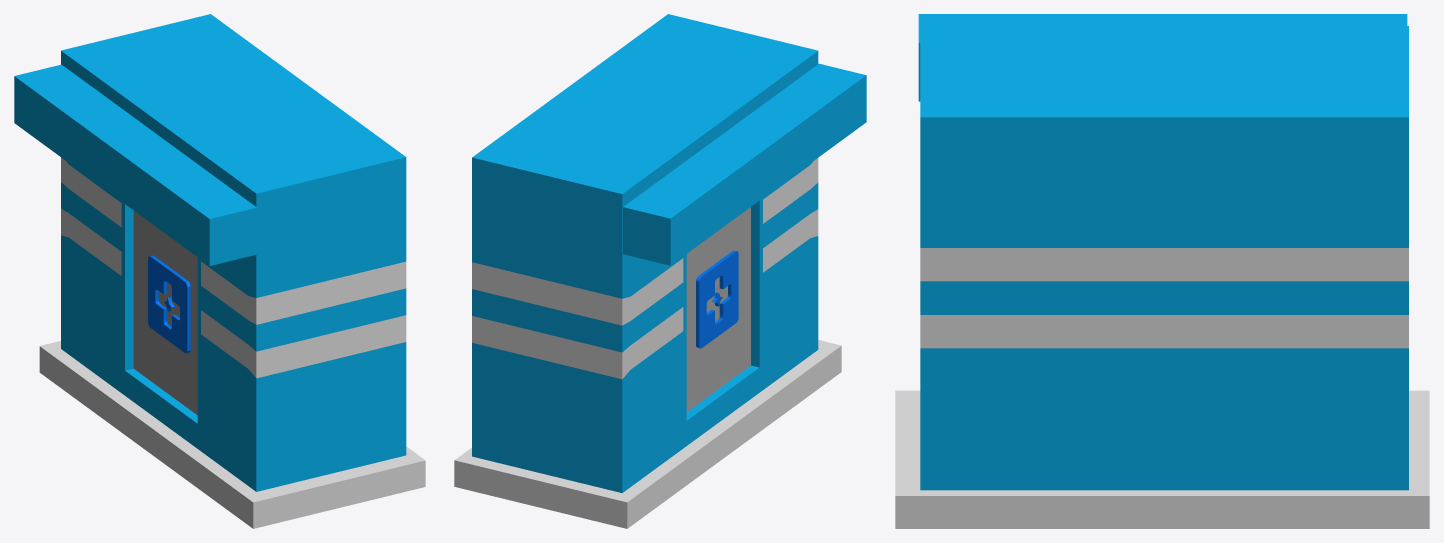
The model's file is blueboxreal.glb.
3 renders of one model, left to right at view 1: azimuth 30°, elevation 25°; view 2: azimuth 150°, elevation 25°; view 3: azimuth 270°, elevation 25°, orthographic. The views are drawn at different scales.
Visible parts, largest first — view 1: Cube.001, Cube.002, Cube, Cube.003, Curve; view 2: Cube.001, Cube.002, Cube.003, Cube, Curve; view 3: Cube.001, Cube.002.
Part boxes in pixels (x1,y1,x2,y2): Cube.001: (14,14,406,491); Cube.002: (39,341,425,528); Cube: (133,211,170,394); Cube.003: (170,237,197,414); Curve: (148,255,190,353); Cube.001: (472,14,866,492); Cube.002: (454,340,841,528); Cube.003: (715,207,750,391); Cube: (686,233,714,411); Curve: (696,250,738,348); Cube.001: (918,14,1408,490); Cube.002: (895,390,1429,528).
Bounding box in the file's own units: 1.83 × 2.75 × 3.28.
